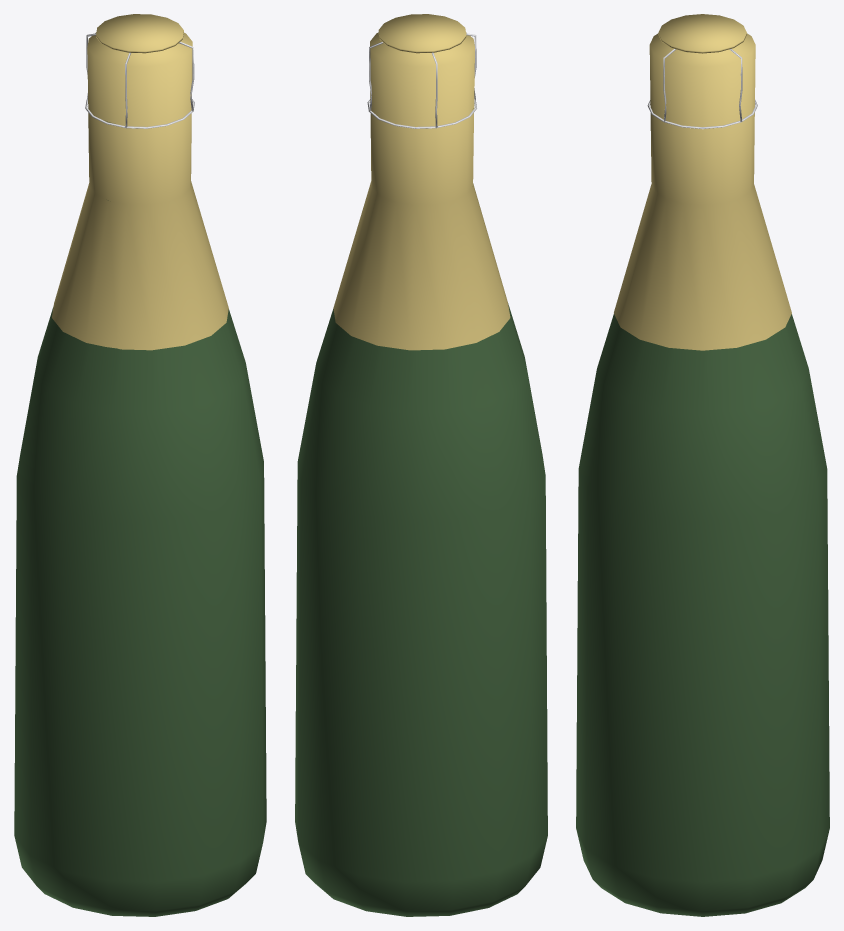
The model's file is bottle_champagne_lod2.glb.
3 renders of one model, left to right at view 1: azimuth 30°, elevation 25°; view 2: azimuth 150°, elevation 25°; view 3: azimuth 270°, elevation 25°, orthographic.
Parts seen in each view (by area): view 1: Glass, Cap; view 2: Glass, Cap; view 3: Glass, Cap.
Part boxes in pixels (x1,y1,x2,y2): Glass: (14, 121, 266, 916); Cap: (52, 14, 228, 350); Glass: (295, 108, 547, 916); Cap: (333, 14, 510, 350); Glass: (576, 314, 829, 916); Cap: (614, 14, 791, 350).
Bounding box in the file's own units: 0.0874 × 0.318 × 0.0871.
